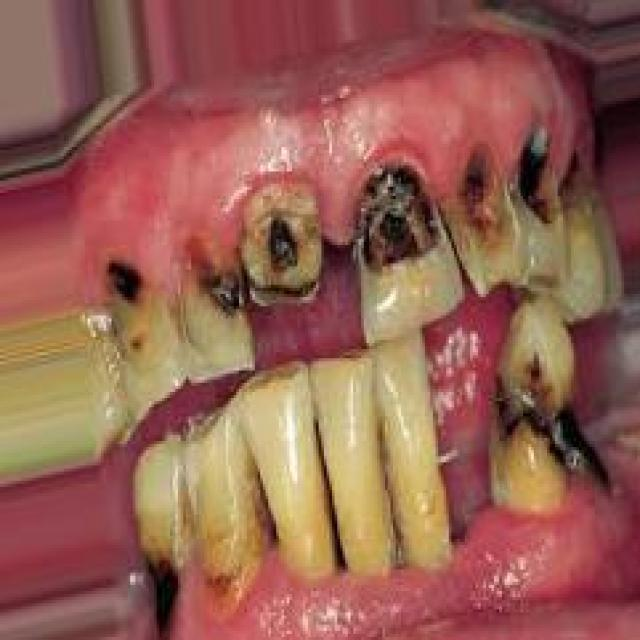caries: (494, 328, 614, 526), (344, 160, 444, 282), (445, 142, 524, 293), (240, 183, 330, 311), (100, 244, 173, 365), (177, 225, 250, 339), (136, 505, 193, 634), (508, 117, 557, 240), (554, 148, 602, 244)
